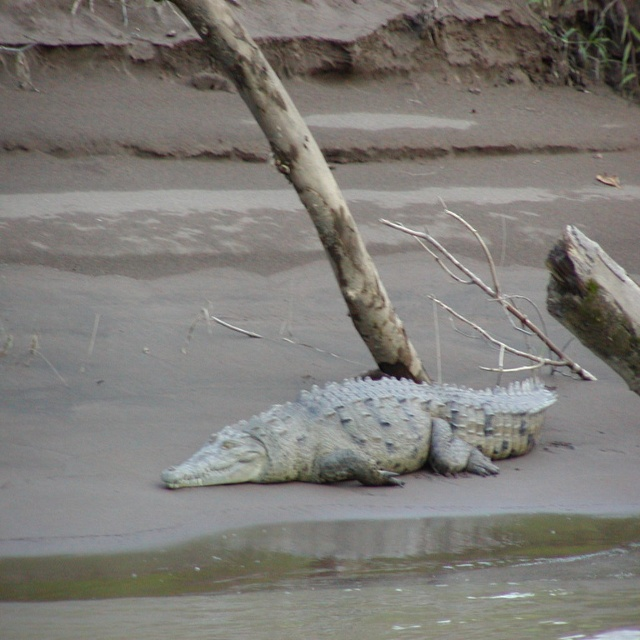Crocodile: (158, 376, 557, 484)
